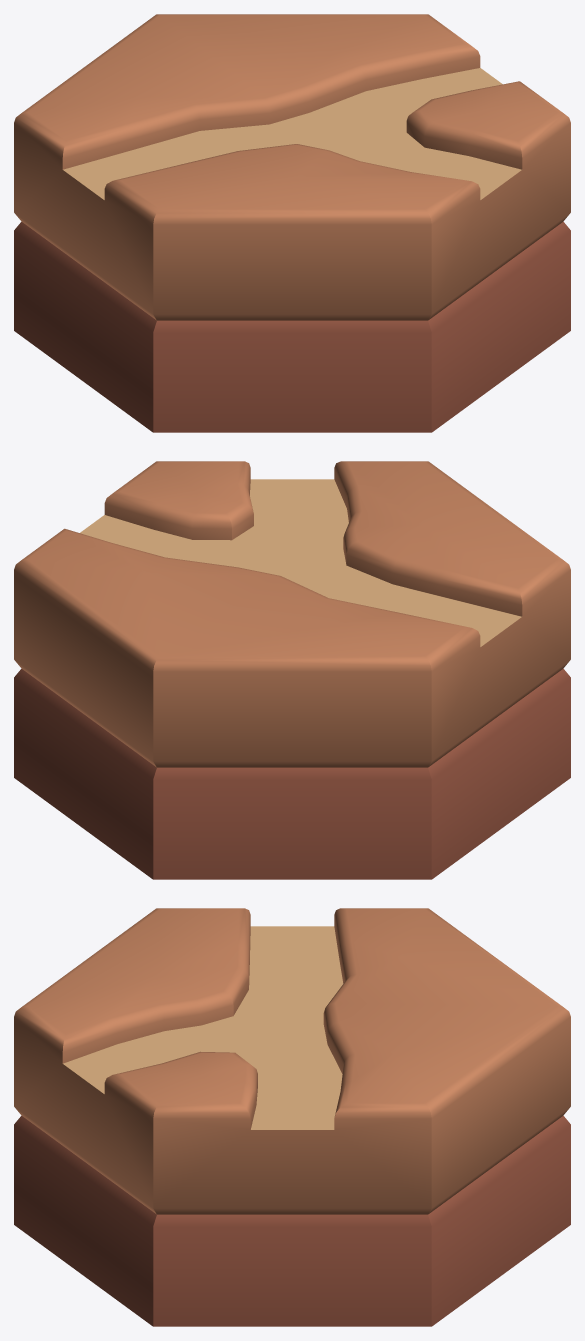
Rendered from hex_rock_roadE_detail.glb.
3 renders of one model, top to bottom at view 1: azimuth 30°, elevation 25°; view 2: azimuth 150°, elevation 25°; view 3: azimuth 270°, elevation 25°, orthographic.
Parts seen in each view (by area): view 1: hex_rock_roadE_detail; view 2: hex_rock_roadE_detail; view 3: hex_rock_roadE_detail.
Boxes of the visible parts, left/top/right/bottom form: hex_rock_roadE_detail: left=14, top=14, right=570, bottom=432; hex_rock_roadE_detail: left=14, top=461, right=570, bottom=879; hex_rock_roadE_detail: left=14, top=908, right=570, bottom=1326.
Size of the model in its own units: 2 by 1 by 2.31.
